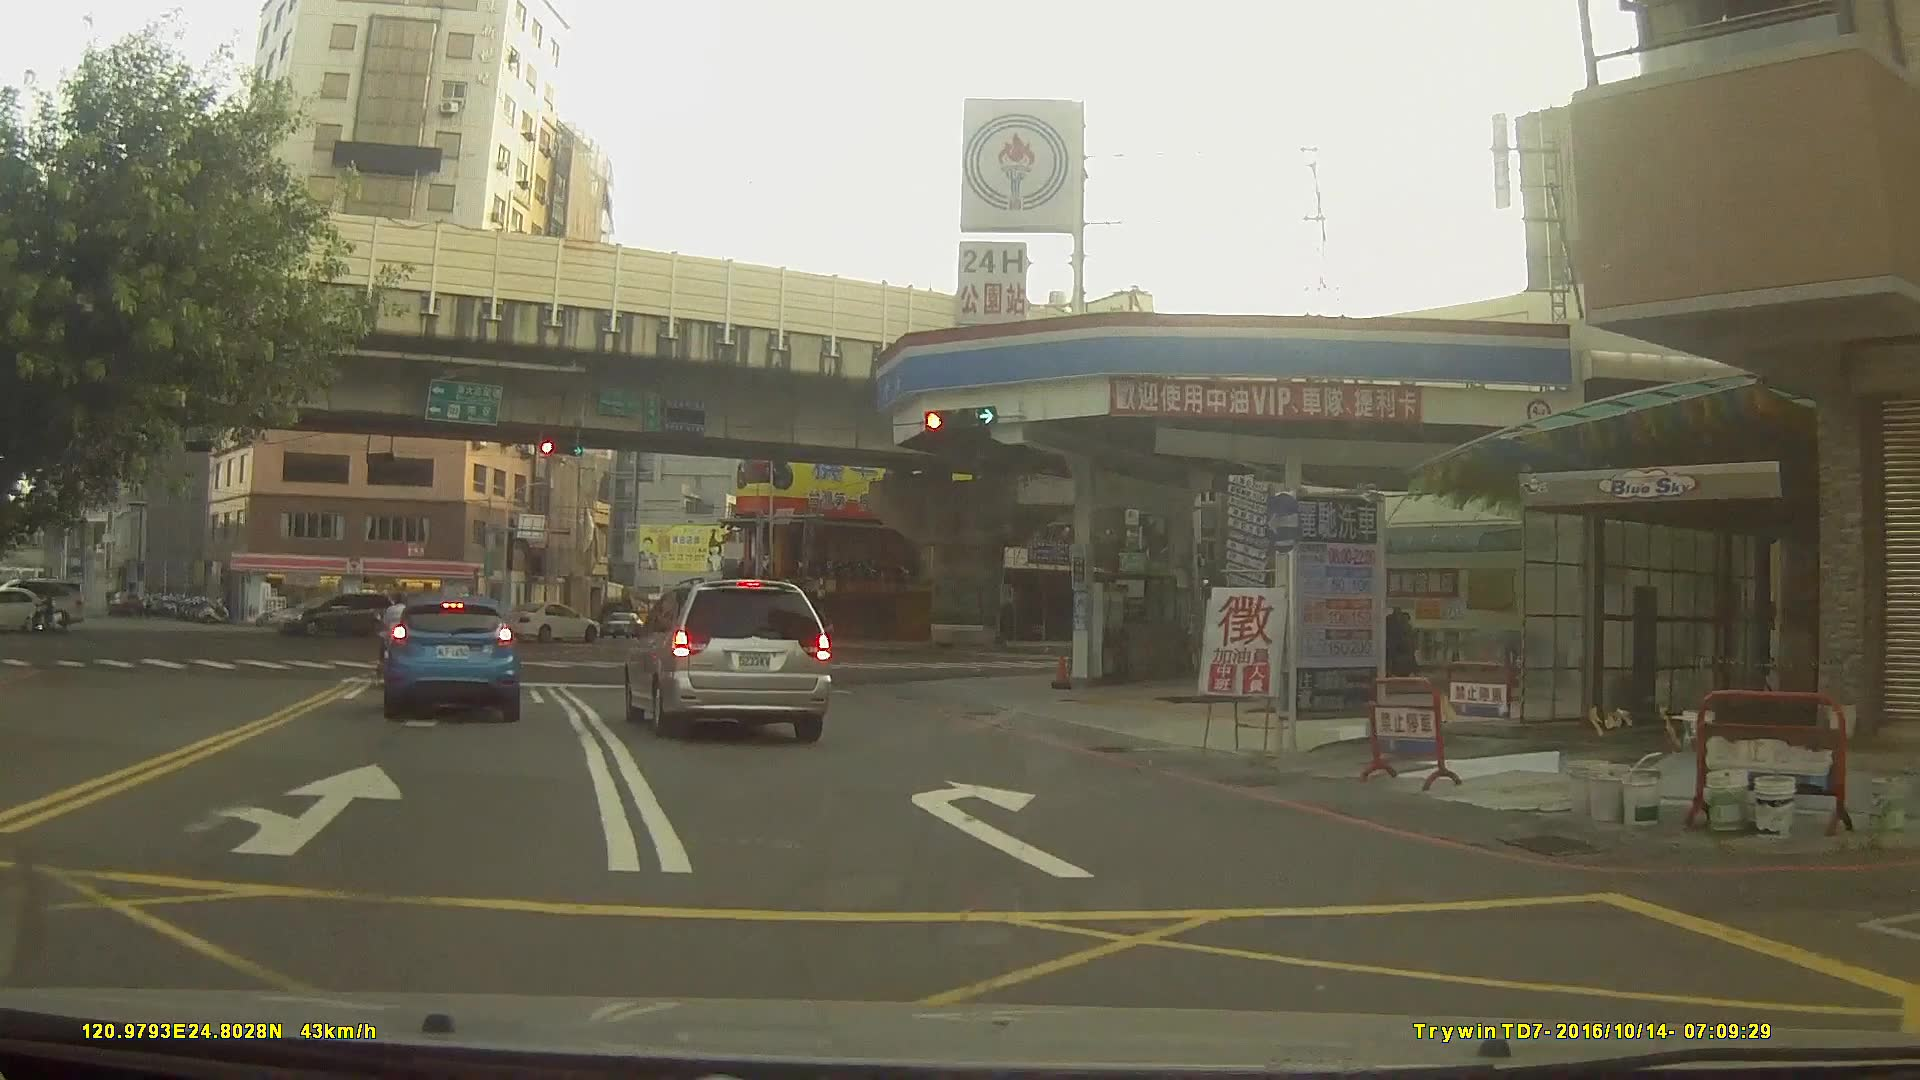rider: (23, 592, 65, 637)
vehicle: (625, 577, 832, 742), (379, 593, 520, 719), (274, 590, 397, 637), (499, 601, 600, 642), (0, 586, 58, 634)
